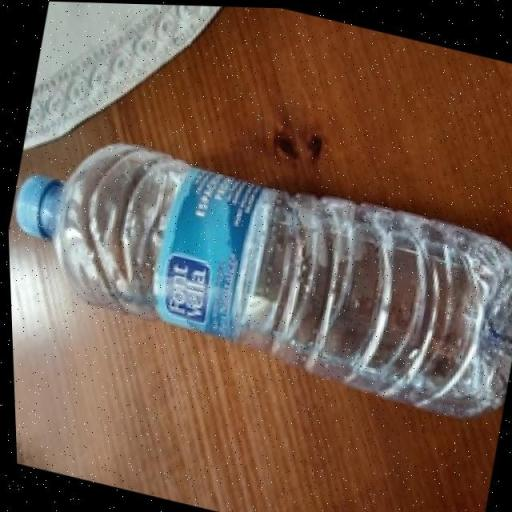plastic: (14, 141, 512, 415)
